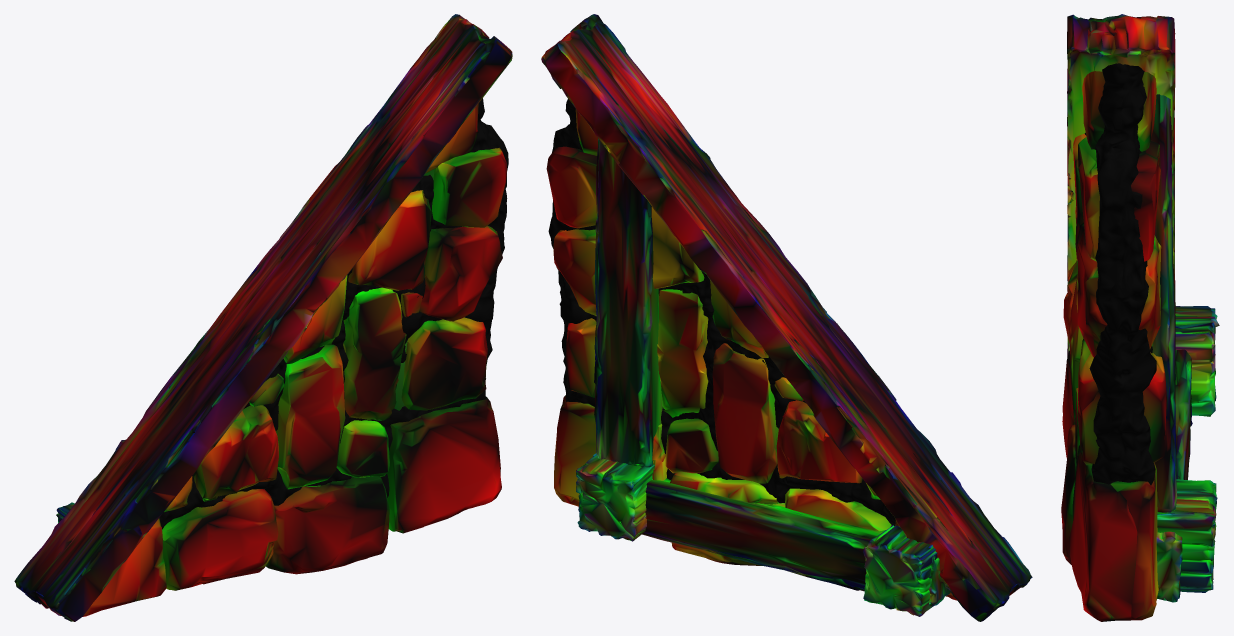
Rendered from SM_Wall_Tri_L.fbx.
3 views of the same model, side by side, from view 1: azimuth 30°, elevation 25°; view 2: azimuth 150°, elevation 25°; view 3: azimuth 270°, elevation 25° (orthographic). The views are drawn at different scales.
Visible parts, largest first — view 1: SM_Wall_Tri_L_LOD0; view 2: SM_Wall_Tri_L_LOD0; view 3: SM_Wall_Tri_L_LOD0.
Part boxes in pixels (x1=…): SM_Wall_Tri_L_LOD0: x1=14, y1=14, x2=512, y2=621; SM_Wall_Tri_L_LOD0: x1=541, y1=14, x2=1032, y2=621; SM_Wall_Tri_L_LOD0: x1=1061, y1=14, x2=1219, y2=621.
Size of the model in its own units: 323 by 74.05 by 326.
